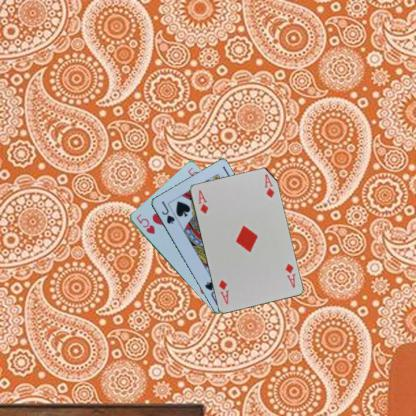5h: (133, 212, 156, 235)
Ad: (282, 260, 297, 289), (195, 187, 209, 215)
Js: (159, 198, 176, 226)
